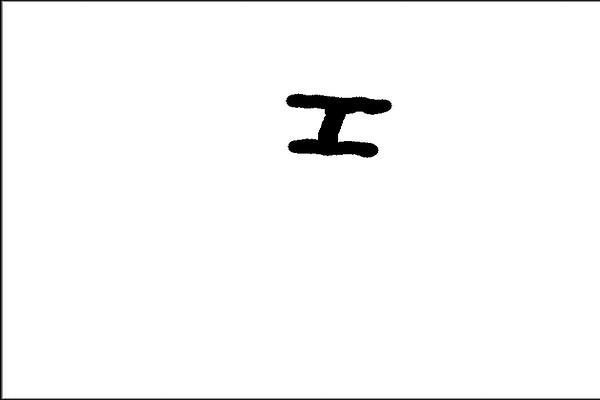i: (274, 79, 399, 165)
